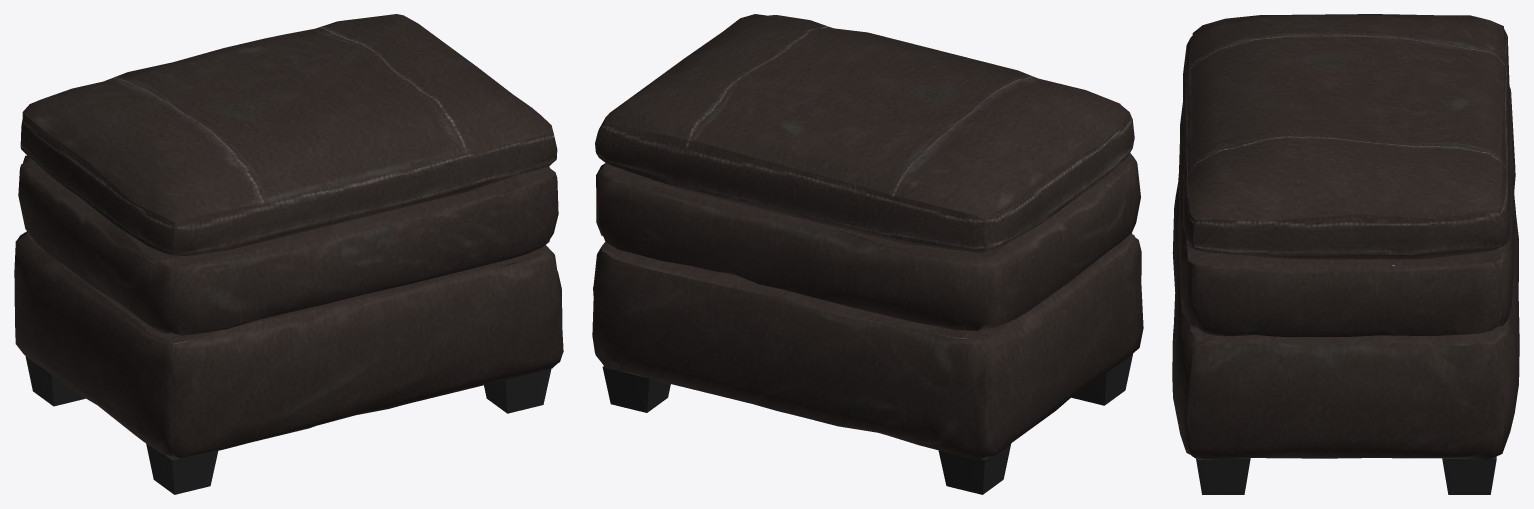
The model's file is otoman.gltf.
The picture shows the model from 3 angles, left to right: view 1: azimuth 30°, elevation 25°; view 2: azimuth 150°, elevation 25°; view 3: azimuth 270°, elevation 25°; orthographic projection.
Parts seen in each view (by area): view 1: Ottoman_01; view 2: Ottoman_01; view 3: Ottoman_01.
Boxes of the visible parts, x1,y1,x2,y2 form: Ottoman_01: (14, 14, 563, 494); Ottoman_01: (592, 14, 1143, 494); Ottoman_01: (1172, 14, 1519, 494).
Bounding box in the file's own units: 0.8839 × 0.6239 × 0.6208.
1 material, 1 textured.
